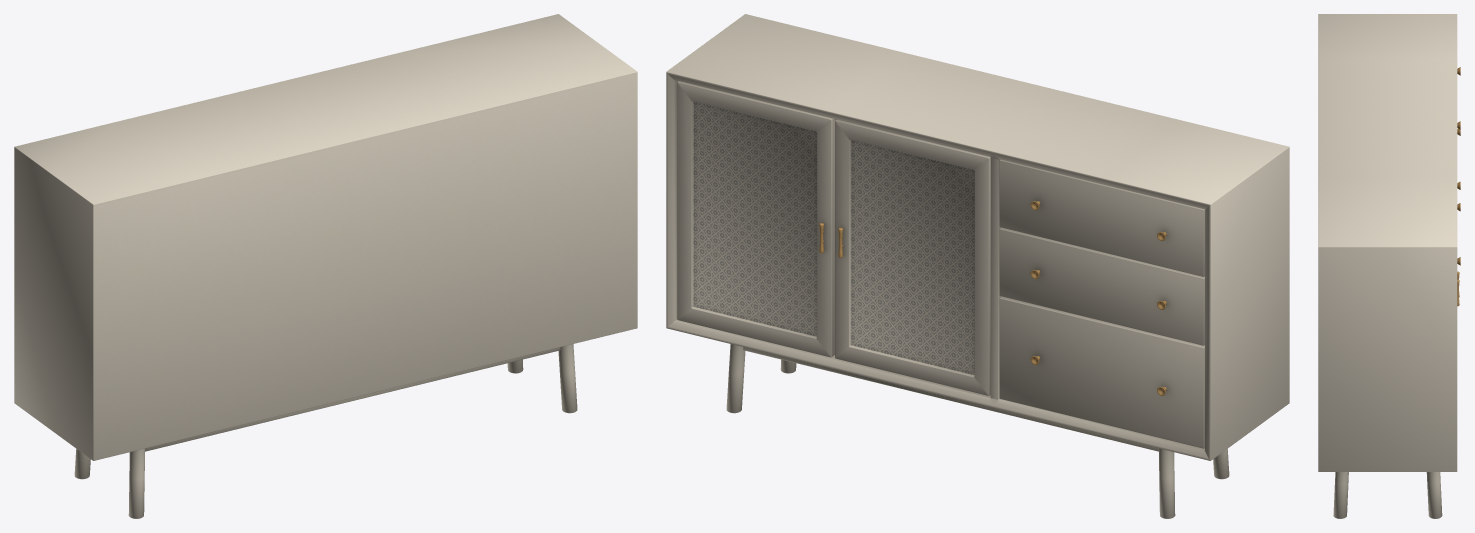
File: Mueble.obj
3 views of the same model, side by side, from view 1: azimuth 30°, elevation 25°; view 2: azimuth 150°, elevation 25°; view 3: azimuth 270°, elevation 25° (orthographic). The views are drawn at different scales.
Visible parts, largest first — view 1: accent_cabinet_pfo_bsw; view 2: accent_cabinet_pfo_bsw; view 3: accent_cabinet_pfo_bsw.
Part boxes in pixels (x1,y1,x2,y2): accent_cabinet_pfo_bsw: (14,14,637,518); accent_cabinet_pfo_bsw: (666,14,1289,518); accent_cabinet_pfo_bsw: (1318,14,1460,518).
Size of the model in its own units: 1.39 by 0.8128 by 0.3578.
